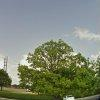Tree: (33, 36, 79, 89)
